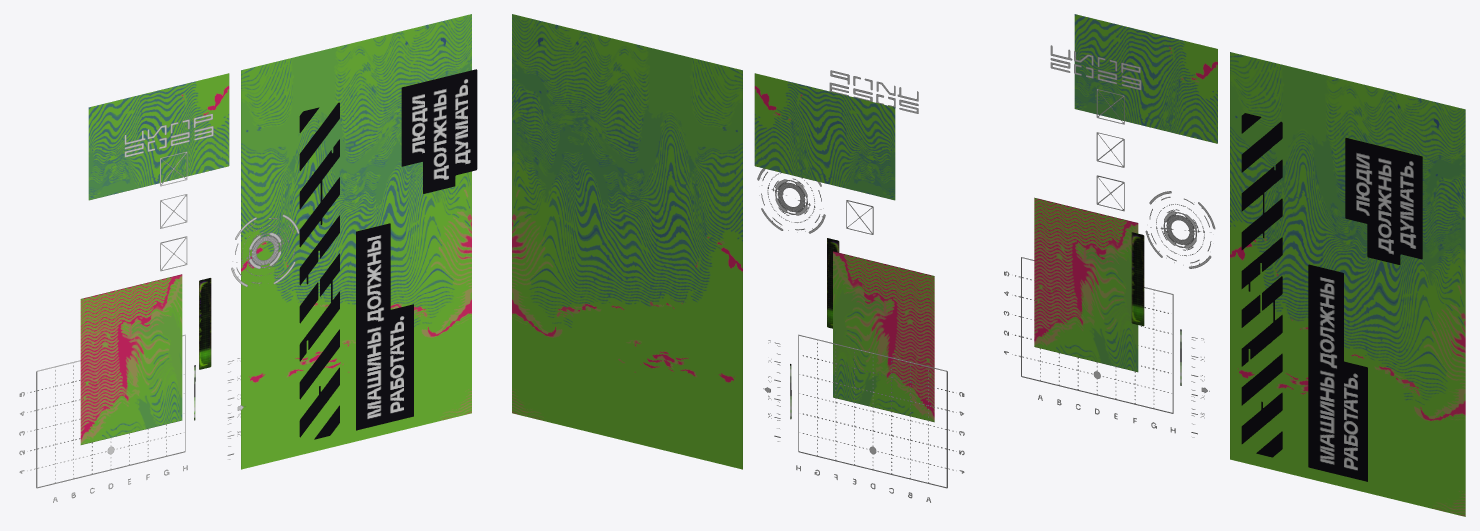
The model's file is Shirt_Tshirt_GLB.glb.
3 renders of one model, left to right at view 1: azimuth 30°, elevation 25°; view 2: azimuth 150°, elevation 25°; view 3: azimuth 330°, elevation 25°, orthographic. The views are drawn at different scales.
Visible parts, largest first — view 1: Plane, Plane.005, Plane.004, Plane.002, Plane.003, Plane.001, Plane.006, Plane.012, Plane.010, Plane.011, Plane.007; view 2: Plane, Plane.005, Plane.004, Plane.006, Plane.012, Plane.011, Plane.010; view 3: Plane, Plane.005, Plane.004, Plane.002, Plane.003, Plane.001, Plane.006, Plane.012, Plane.010, Plane.011, Plane.007.
Part boxes in pixels (x1,y1,x2,y2): Plane: (241, 14, 471, 469); Plane.005: (80, 274, 182, 444); Plane.004: (88, 73, 229, 200); Plane.002: (356, 223, 413, 430); Plane.003: (401, 69, 477, 193); Plane.001: (299, 102, 339, 439); Plane.006: (19, 334, 187, 502); Plane.012: (231, 214, 299, 286); Plane.010: (199, 278, 211, 369); Plane.011: (124, 113, 213, 157); Plane.007: (160, 151, 187, 271); Plane: (512, 14, 742, 469); Plane.005: (833, 251, 934, 422); Plane.004: (754, 73, 895, 200); Plane.006: (796, 334, 964, 502); Plane.012: (757, 168, 825, 233); Plane.011: (829, 70, 918, 113); Plane.010: (827, 238, 839, 328); Plane: (1230, 52, 1465, 516); Plane.005: (1034, 197, 1138, 372); Plane.004: (1074, 14, 1217, 143); Plane.002: (1308, 264, 1367, 481); Plane.003: (1345, 138, 1422, 264); Plane.001: (1241, 113, 1282, 457); Plane.006: (1003, 257, 1175, 433); Plane.012: (1145, 191, 1215, 268); Plane.010: (1131, 232, 1144, 326); Plane.011: (1050, 45, 1141, 90); Plane.007: (1096, 89, 1124, 211).
Bounding box in the file's own units: 0.3058 × 0.2549 × 0.0421.
Materials: 1 (1 with a texture image).
